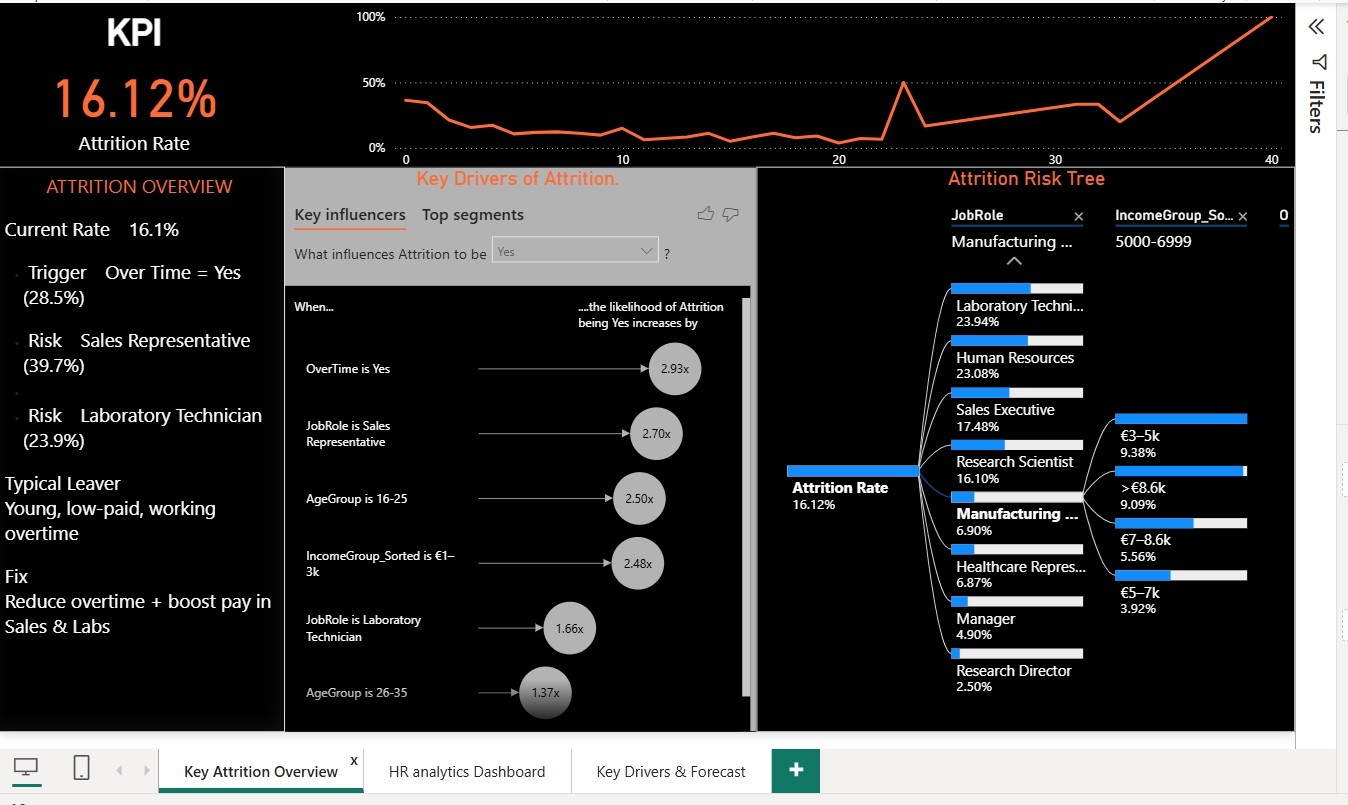

The page's visual inventory and layout, read from the dashboard file:
{"tool":"powerbi","page":{"name":"Attrition Overview & Risk Drivers","canvas":[1280,720],"ordinal":0},"visuals":[{"type":"card","title":"KPI","fields":{"Values":["HR_Employee_dataset.Attrition Rate"]},"box":[0,0,267.3,165.2],"z":0,"group":"g1"},{"type":"keyDriversVisual","title":"Key Drivers of Attrition.","fields":{"Target":["HR_Employee_dataset.Attrition"],"ExplainBy":["HR_Employee_dataset.JobRole","HR_Employee_dataset.AgeGroup","HR_Employee_dataset.IncomeGroup","HR_Employee_dataset.OverTime"]},"box":[274.1,161.7,474.1,558],"z":0},{"type":"lineChart","title":" Attrition by Department","fields":{"Y":["HR_Employee_dataset.Attrition Rate"],"Category":["HR_Employee_dataset.YearsAtCompany"]},"box":[346.6,0,925.1,173.3],"z":1000,"group":"g1"},{"type":"decompositionTreeVisual","title":"Attrition Risk Tree","fields":{"Analyze":["HR_Employee_dataset.Attrition Rate"],"ExplainBy":["HR_Employee_dataset.JobRole","HR_Employee_dataset.IncomeGroup","HR_Employee_dataset.OverTime","HR_Employee_dataset.AgeGroup"]},"box":[748.2,161.7,532.1,558],"z":1000},{"type":"group","id":"g1","title":"Group 1","box":[0,0,1271.7,173.3],"z":2000},{"type":"textbox","box":[0,161.7,282.7,558],"z":3000},{"type":"textbox","box":[1101.2,679,179,40.7],"z":3001}]}

Visuals, with their boxes on the page's 1280x720 design canvas (x1, y1, x2, y2). These are canvas units, not pixel positions in the 1348x805 screenshot, which may show the page scaled, cropped or inside an application window:
"KPI" card: [x1=0, y1=0, x2=267, y2=165]
"Key Drivers of Attrition." keyDriversVisual: [x1=274, y1=162, x2=748, y2=720]
" Attrition by Department" lineChart: [x1=347, y1=0, x2=1272, y2=173]
"Attrition Risk Tree" decompositionTreeVisual: [x1=748, y1=162, x2=1280, y2=720]
"Group 1" group: [x1=0, y1=0, x2=1272, y2=173]
textbox: [x1=0, y1=162, x2=283, y2=720]
textbox: [x1=1101, y1=679, x2=1280, y2=720]
